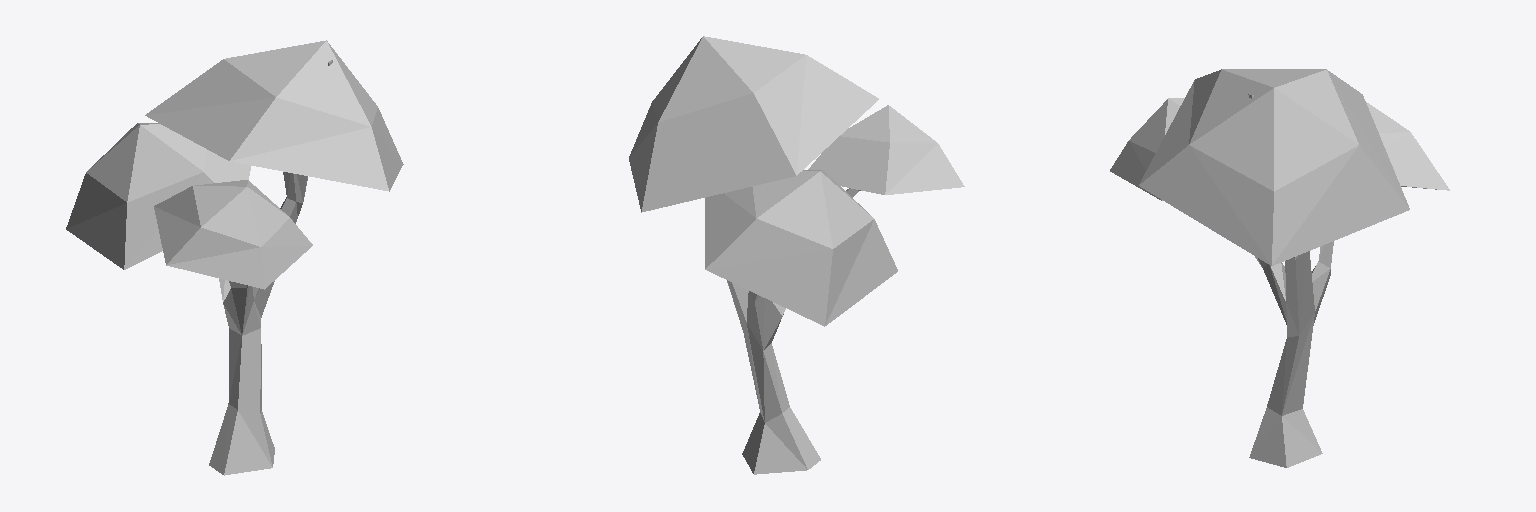
Rendered from arbol.obj.
3 views of the same model, side by side, from view 1: azimuth 30°, elevation 25°; view 2: azimuth 150°, elevation 25°; view 3: azimuth 270°, elevation 25° (orthographic).
Parts seen in each view (by area): view 1: arbol_Cube; view 2: arbol_Cube; view 3: arbol_Cube.
Boxes of the visible parts, box(x1,y1,x2,y2) form: arbol_Cube: box(66, 40, 403, 475); arbol_Cube: box(629, 36, 964, 474); arbol_Cube: box(1110, 69, 1449, 467).
Bounding box in the file's own units: 1.95 × 2.62 × 2.01.